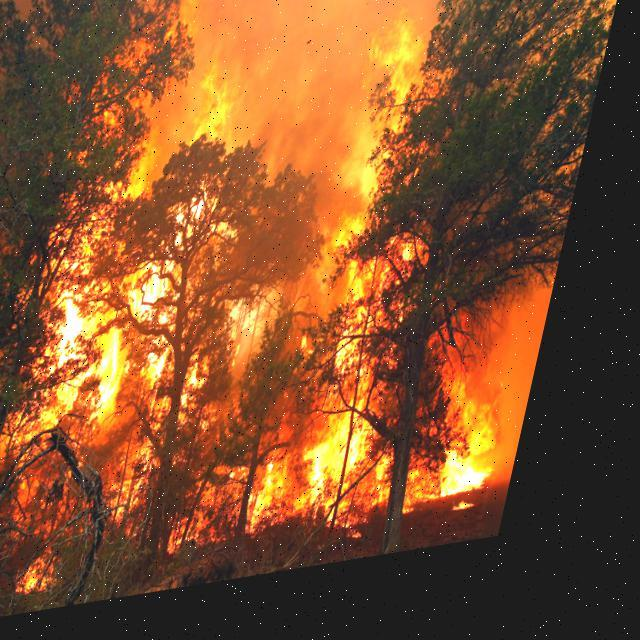Fire: (0, 0, 617, 593)
